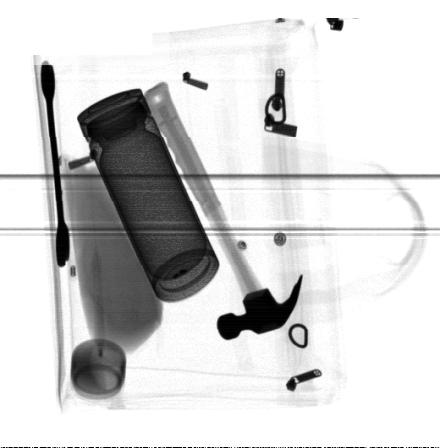Hammer: (141, 83, 303, 340)
Wrench: (40, 59, 70, 267)
